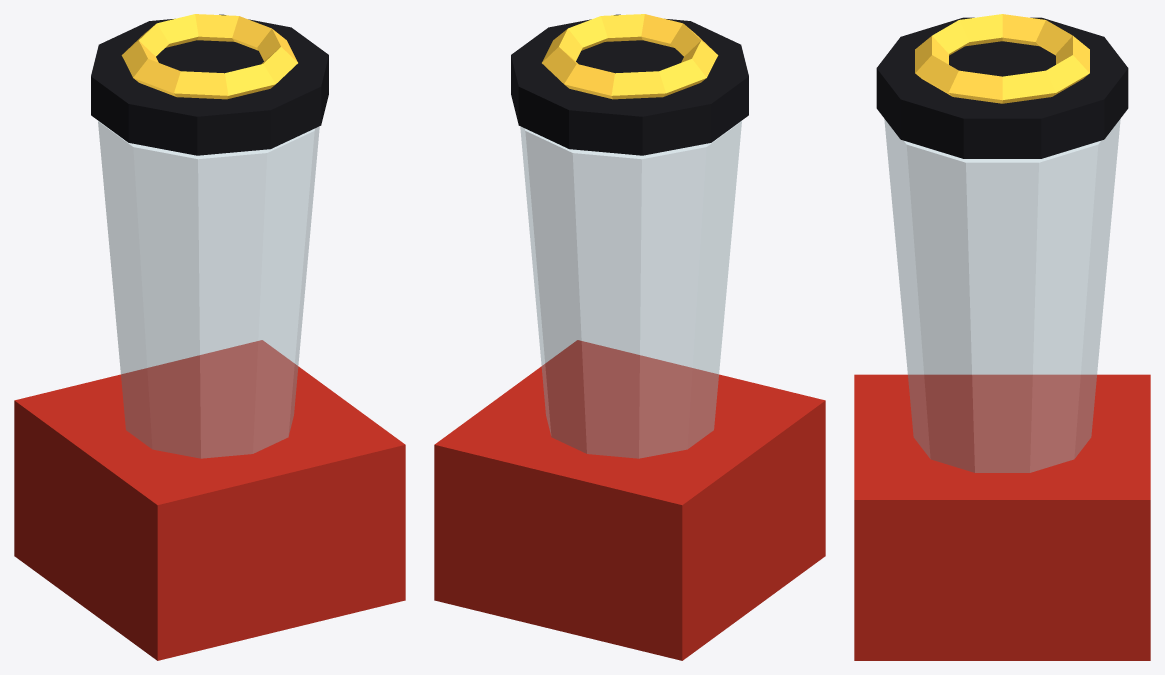
File: contest_blender.glb
The picture shows the model from 3 angles, left to right: view 1: azimuth 30°, elevation 25°; view 2: azimuth 150°, elevation 25°; view 3: azimuth 270°, elevation 25°; orthographic projection. The views are drawn at different scales.
Parts seen in each view (by area): view 1: base_blender_red, jar_blender_jar, lid_black, ribbon_ribbon_gold; view 2: base_blender_red, jar_blender_jar, lid_black, ribbon_ribbon_gold; view 3: base_blender_red, jar_blender_jar, lid_black, ribbon_ribbon_gold.
Part boxes in pixels (x1,y1,x2,y2): base_blender_red: (14, 340, 405, 660); jar_blender_jar: (98, 121, 319, 458); lid_black: (91, 14, 328, 155); ribbon_ribbon_gold: (121, 14, 297, 99); base_blender_red: (434, 340, 825, 660); jar_blender_jar: (520, 121, 741, 458); lid_black: (511, 14, 748, 155); ribbon_ribbon_gold: (542, 14, 718, 99); base_blender_red: (854, 374, 1150, 660); jar_blender_jar: (884, 119, 1120, 472); lid_black: (876, 17, 1128, 158); ribbon_ribbon_gold: (915, 14, 1089, 103).
Size of the model in its own units: 0.2 by 0.412 by 0.2.
